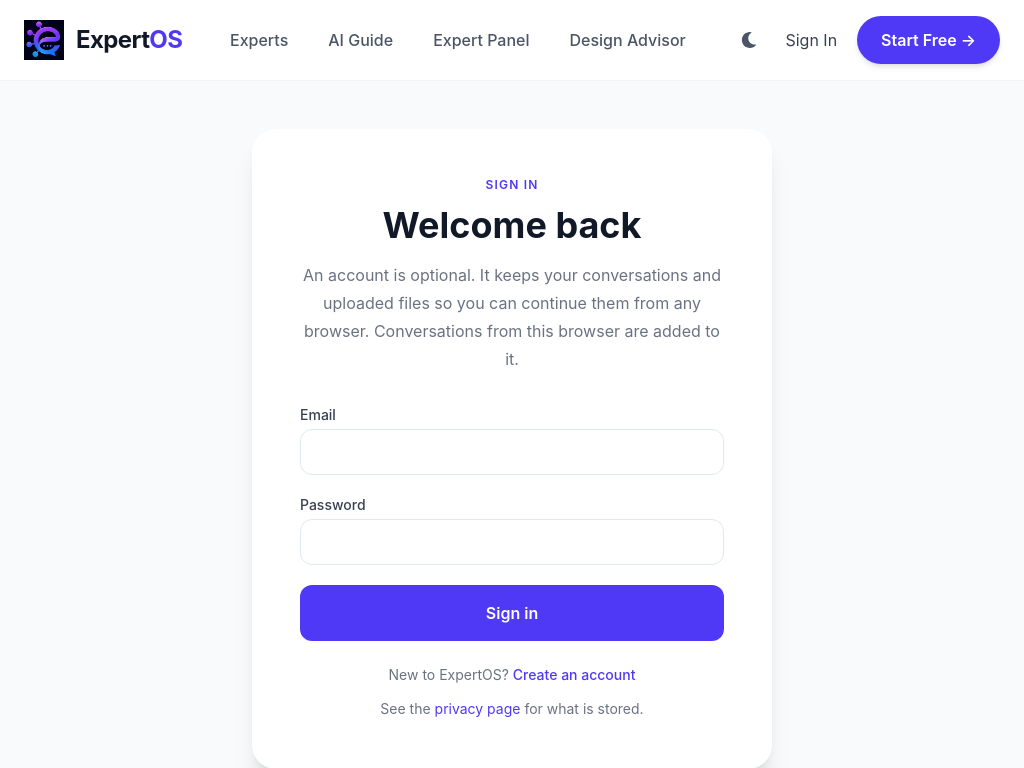
Test: Accounts › creates an account, shows it in the navbar, and signs out
Click the button "Create an account".
click(574, 675)  # box top-left (513, 665), bottom-right (635, 685)
(page scrolled)
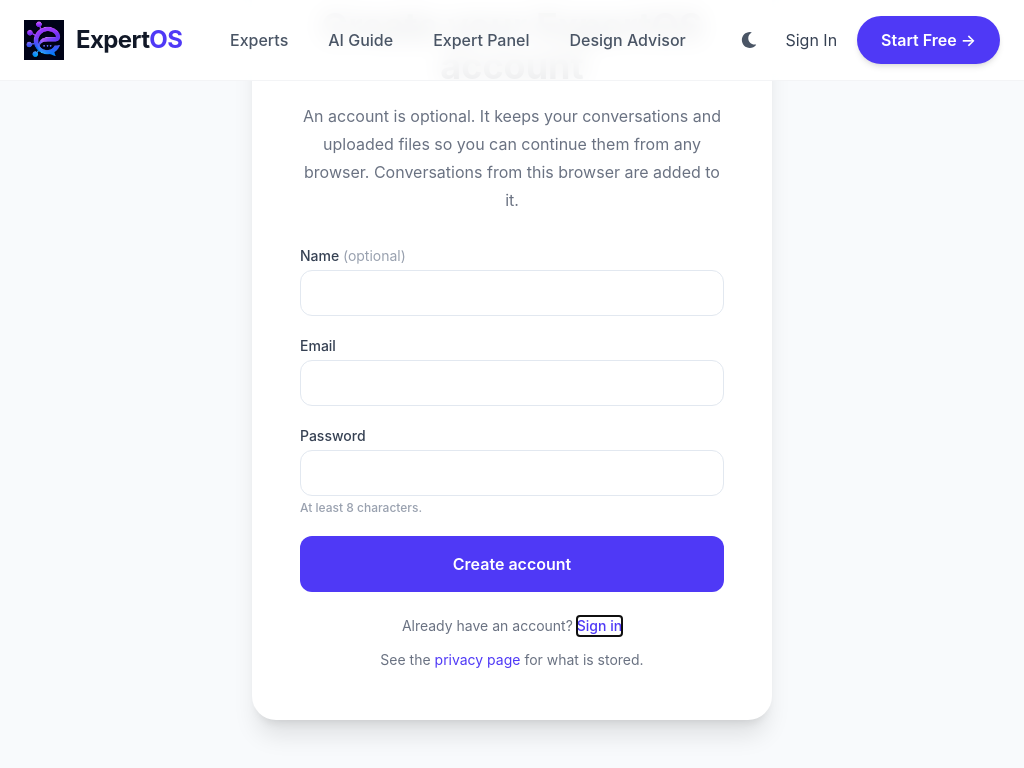
Click the button "Create account".
click(512, 564)  # box top-left (300, 536), bottom-right (724, 592)
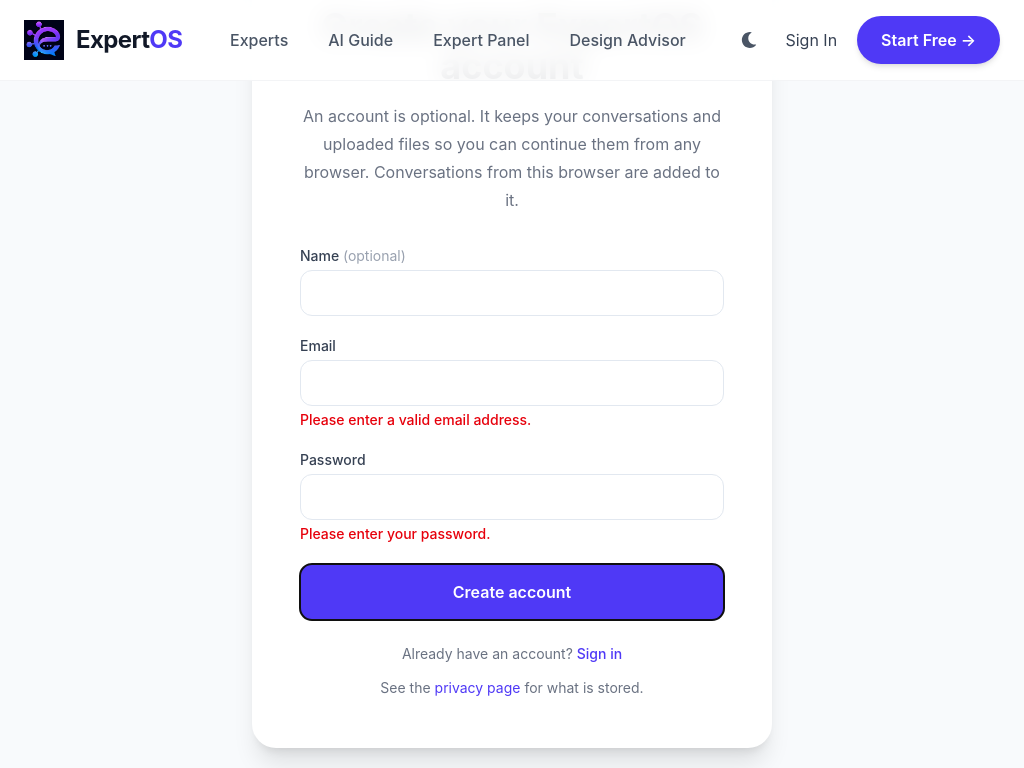
Expected: the text "Please enter a valid email address." is shown, top-left (300, 411), bottom-right (531, 428)
Type "Ana Lima" into the field labelled "Name (optional)".
click(512, 293); type("Ana Lima")  # box top-left (300, 270), bottom-right (724, 316)
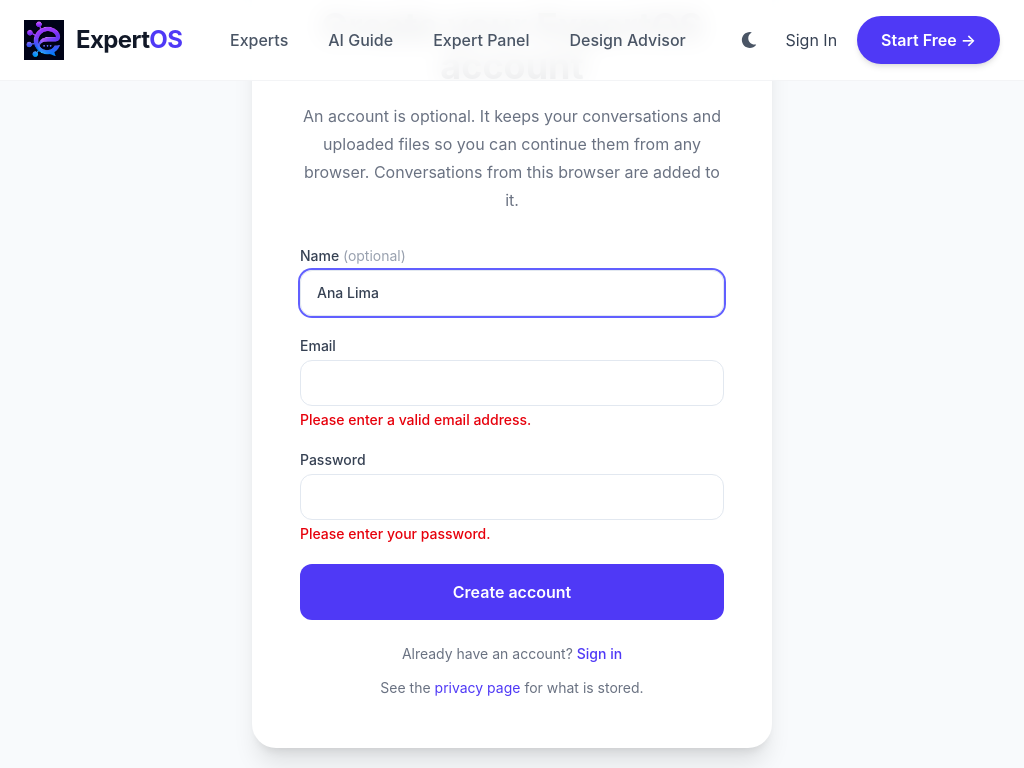
Type "ana@example.com" into the field labelled "Email Please enter a valid email address.".
click(512, 383); type("ana@example.com")  # box top-left (300, 360), bottom-right (724, 406)
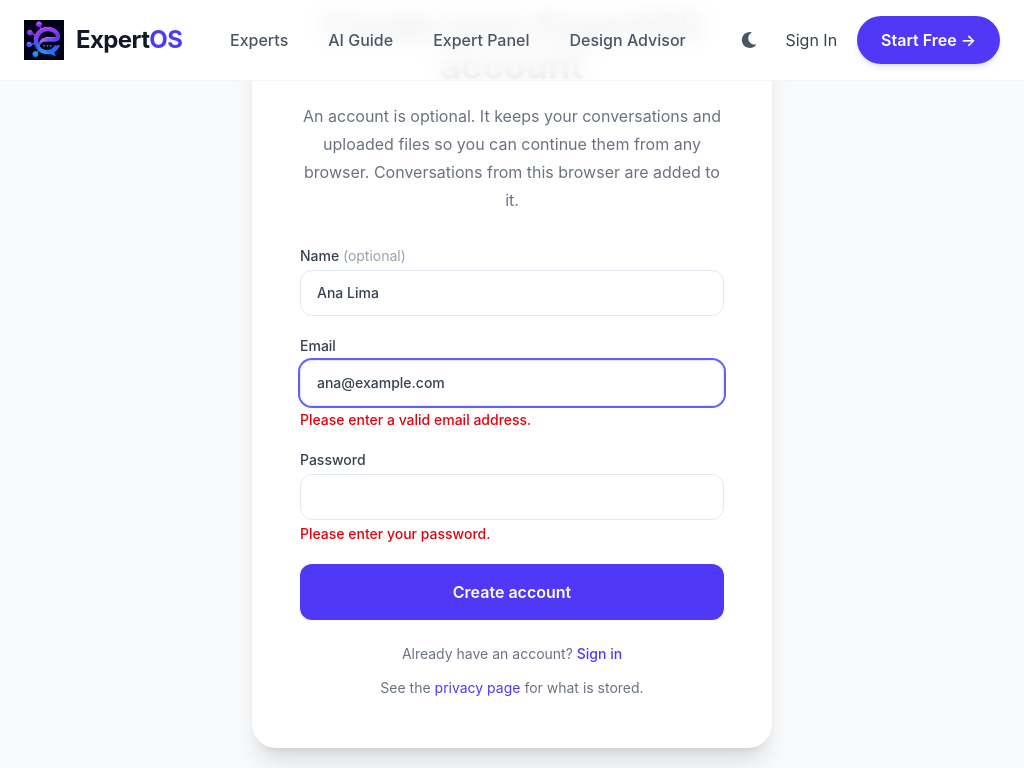
Type "correct horse" into the password field labelled "Password Please enter your password.".
click(512, 497); type("correct horse")  # box top-left (300, 474), bottom-right (724, 520)
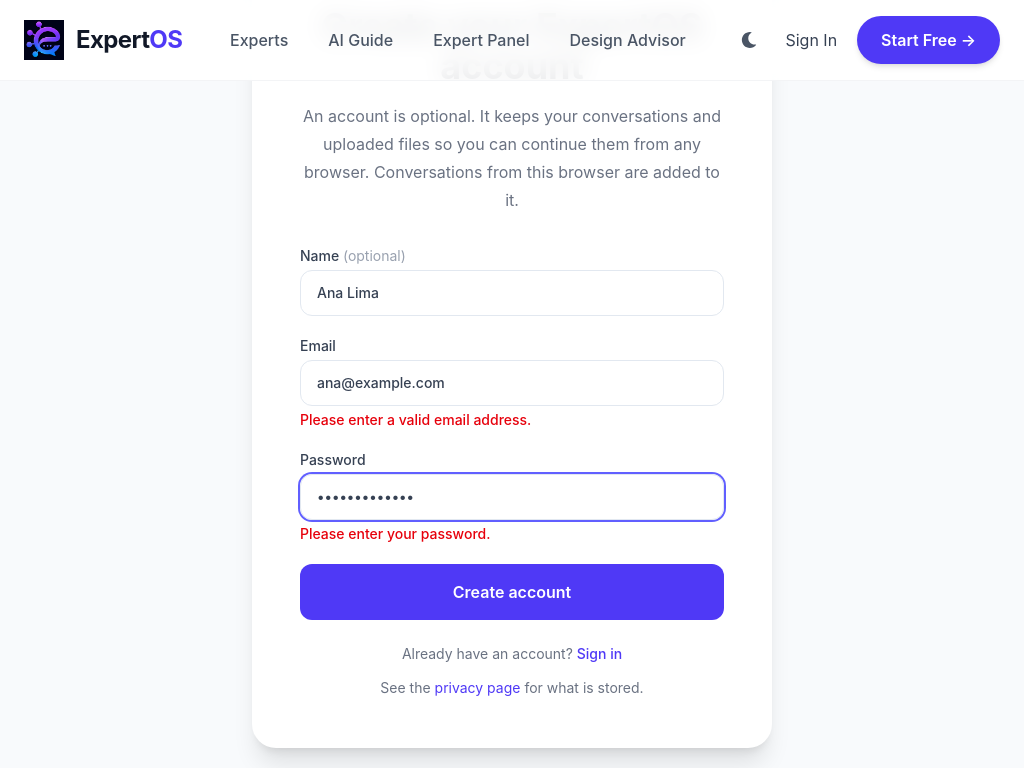
Click the button "Create account".
click(512, 592)  # box top-left (300, 564), bottom-right (724, 620)
(page scrolled)
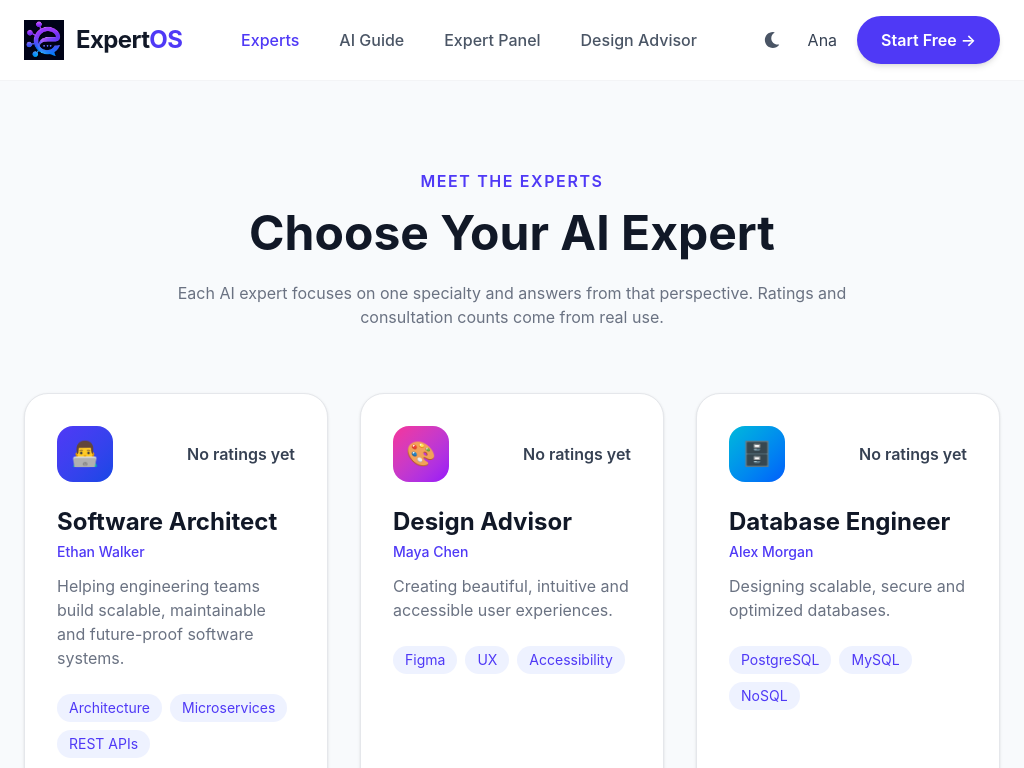
Expected: the heading "Choose Your AI Expert" is shown, top-left (249, 203), bottom-right (775, 262)
Expected: the button "Ana" is shown, top-left (808, 28), bottom-right (837, 52)
